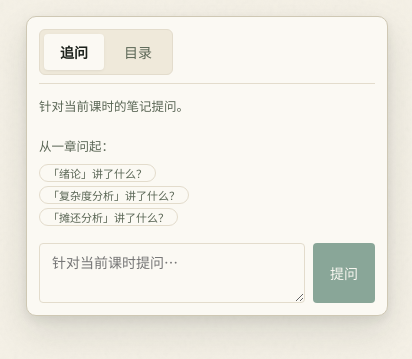
Test: QaDock 批2：R1+ 升格（plan 2026-09-22-wide-screen-blank-space） › 切到目录 tab 渲染章节项（时间戳 + 标题），坞内不再显示输入行
This screenshot has width=412, height=359.
Click the tab "目录" at (138, 52), box [108,34,168,70]
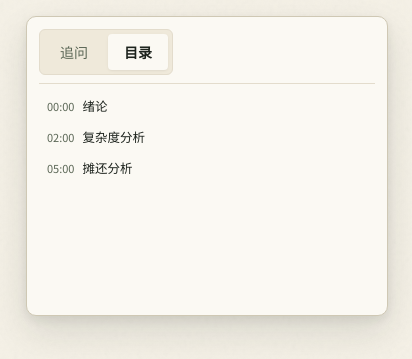
Now the button with test id "qa-toc-item" shows "复杂度分析", box [39,123,375,150]
Now the button with test id "qa-toc-item" shows "02:00", box [39,123,375,150]
Now the text box is gone
